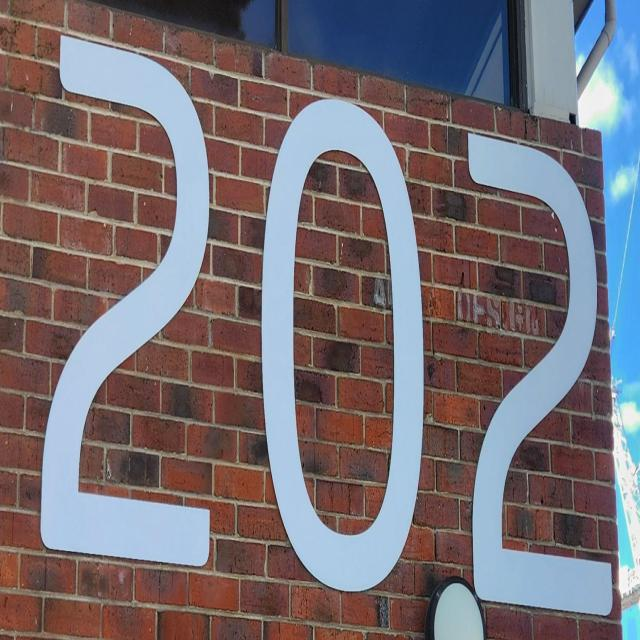character: (38, 32, 215, 570), (259, 93, 427, 595), (466, 127, 616, 622)
